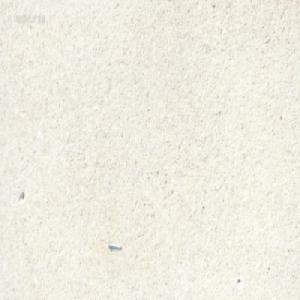Nail: (107, 240, 122, 249)
